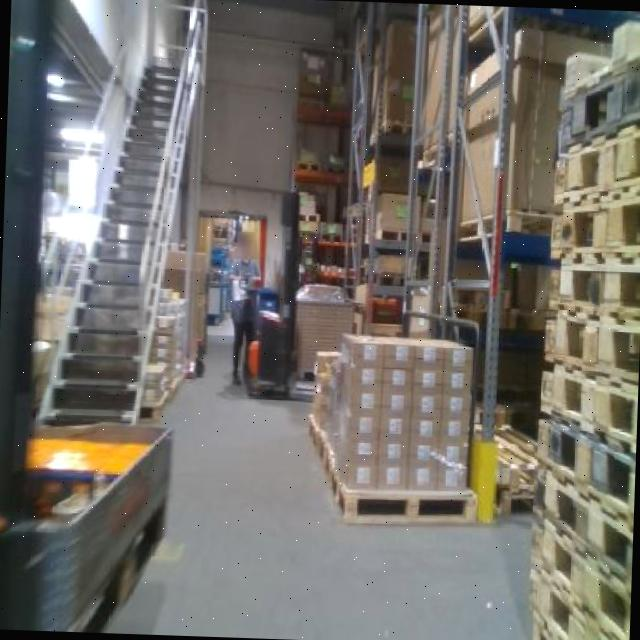pallet: (525, 454, 633, 616), (527, 397, 636, 545), (530, 346, 638, 466), (533, 295, 640, 395), (541, 116, 640, 220), (551, 57, 640, 168), (324, 474, 487, 530), (548, 16, 640, 114), (545, 182, 640, 273), (539, 250, 640, 321)
